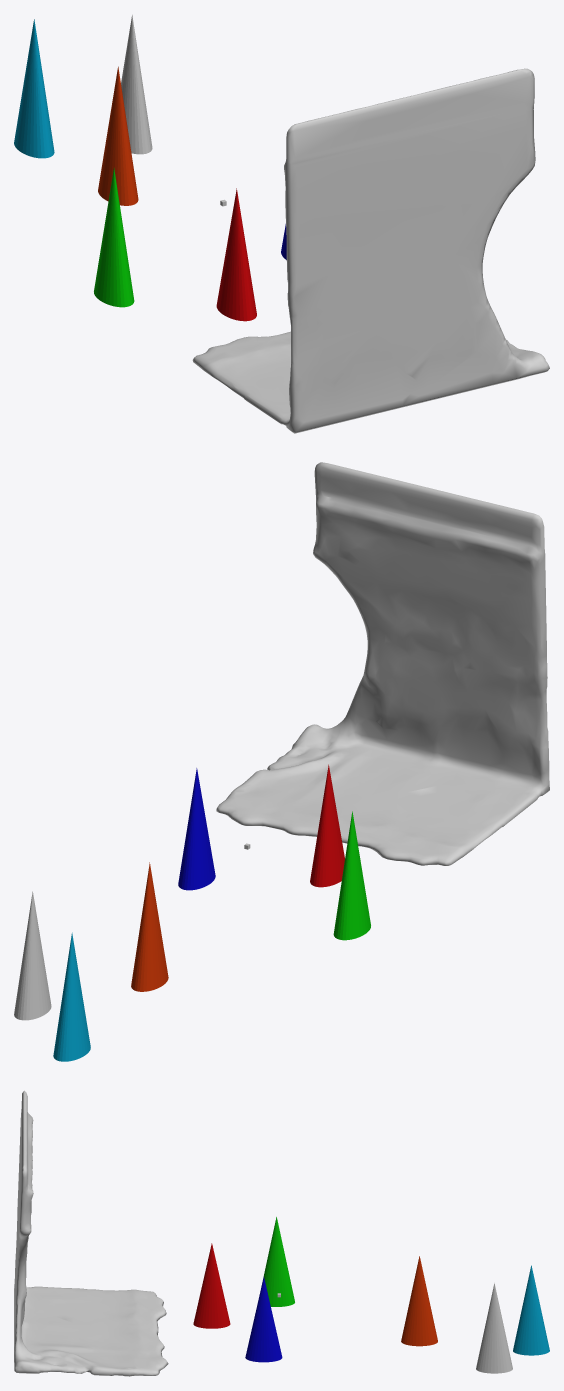
The picture shows the model from 3 angles, top to bottom: view 1: azimuth 30°, elevation 25°; view 2: azimuth 150°, elevation 25°; view 3: azimuth 270°, elevation 25°; orthographic projection. The views are drawn at different scales.
Visible parts, largest first — view 1: Liquid_Domain, 円錐.005, 円錐.003, 円錐.001, 円錐.004, 円錐; view 2: Liquid_Domain, 円錐.005, 円錐.003, 円錐.004, 円錐, 円錐.002, 円錐.001; view 3: Liquid_Domain, 円錐.005, 円錐, 円錐.004, 円錐.002, 円錐.001, 円錐.003.
Boxes of the visible parts, box(x1,y1,x2,y2) form: Liquid_Domain: box(192, 68, 549, 433); 円錐.005: box(14, 19, 54, 158); 円錐.003: box(94, 168, 134, 307); 円錐.001: box(216, 188, 256, 321); 円錐.004: box(98, 66, 138, 205); 円錐: box(121, 15, 152, 154); Liquid_Domain: box(216, 462, 549, 865); 円錐.005: box(53, 932, 90, 1061); 円錐.003: box(333, 811, 370, 940); 円錐.004: box(131, 862, 168, 991); 円錐: box(14, 891, 51, 1020); 円錐.002: box(178, 768, 215, 890); 円錐.001: box(310, 764, 344, 887); Liquid_Domain: box(14, 1090, 168, 1376); 円錐.005: box(513, 1265, 549, 1355); 円錐: box(476, 1283, 512, 1373); 円錐.004: box(401, 1256, 437, 1346); 円錐.002: box(245, 1276, 282, 1362); 円錐.001: box(193, 1243, 230, 1328); 円錐.003: box(262, 1217, 294, 1306).
Size of the model in its own units: 129 by 158 by 347.
